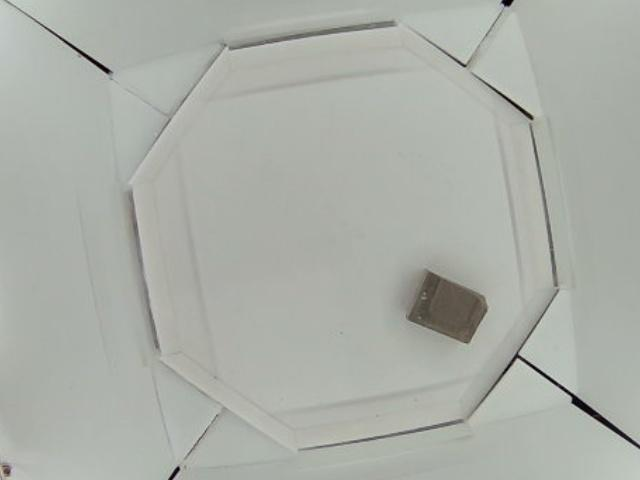China: (408, 272, 491, 344)
